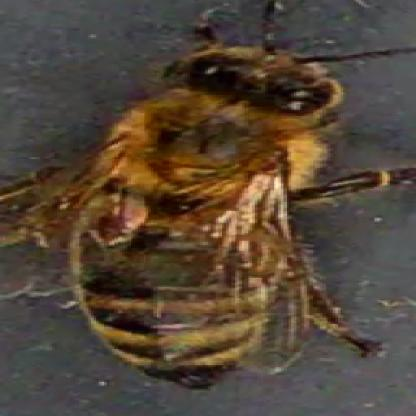bee: (58, 32, 341, 383)
